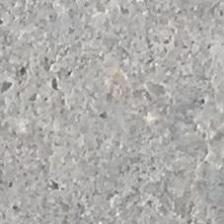Non_Crack: (32, 0, 207, 209)
